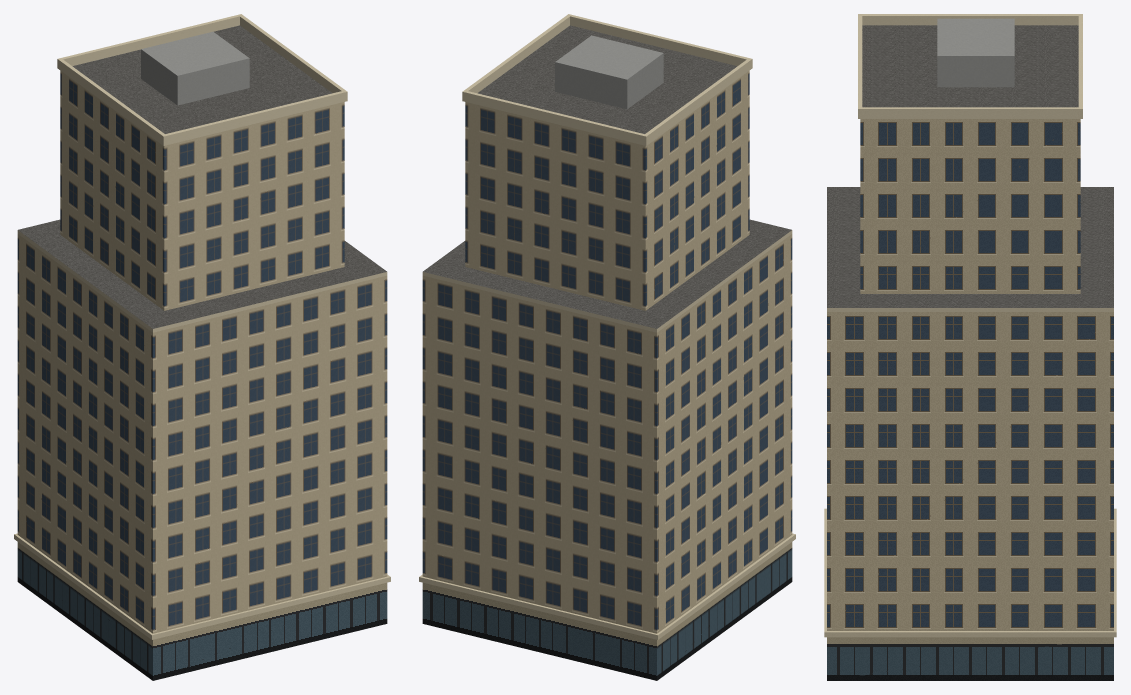
File: stone_deco_tower.glb
The picture shows the model from 3 angles, left to right: view 1: azimuth 30°, elevation 25°; view 2: azimuth 150°, elevation 25°; view 3: azimuth 270°, elevation 25°; orthographic projection. The views are drawn at different scales.
Parts seen in each view (by area): view 1: stone_deco_tower; view 2: stone_deco_tower; view 3: stone_deco_tower.
Boxes of the visible parts, x1,y1,x2,y2 form: stone_deco_tower: [14, 14, 390, 680]; stone_deco_tower: [419, 14, 795, 680]; stone_deco_tower: [824, 14, 1116, 680].
Bounding box in the file's own units: 26.5 × 58.1 × 26.5.
5 materials, 5 textured.
